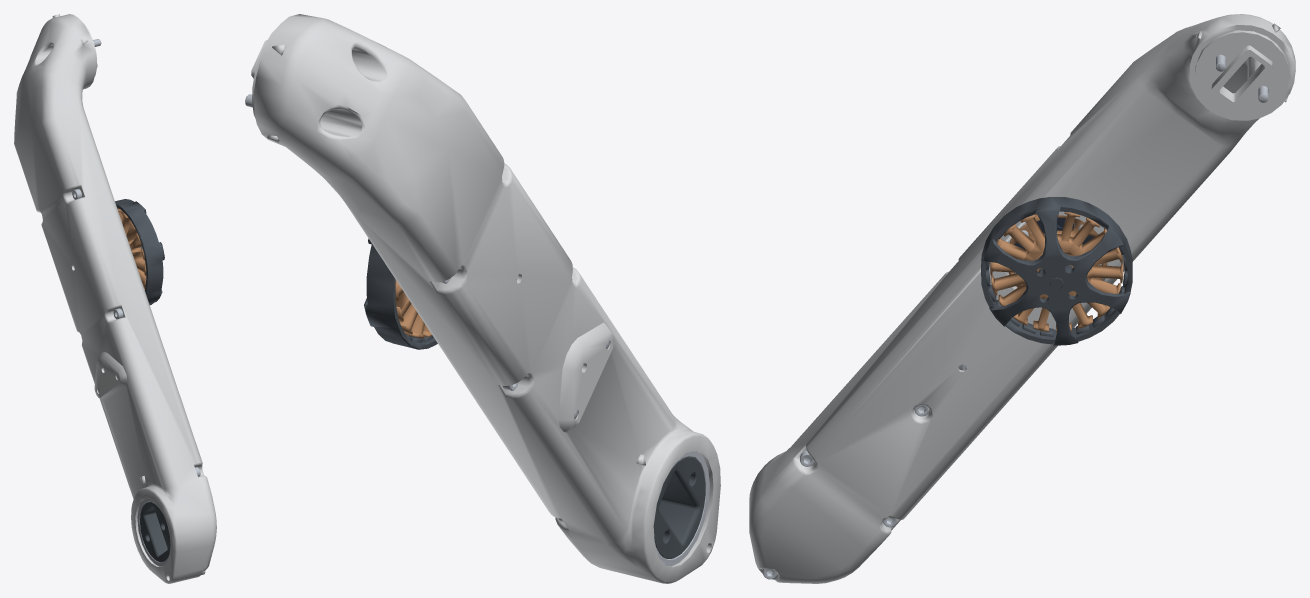
Rendered from left_thigh_LOD0.fbx.
The picture shows the model from 3 angles, left to right: view 1: azimuth 30°, elevation 25°; view 2: azimuth 150°, elevation 25°; view 3: azimuth 270°, elevation 25°; orthographic projection. The views are drawn at different scales.
Parts seen in each view (by area): view 1: MM_bolt_upper_leg_200mm_555b0a47ef, MM_bolt_motor_antigravity_4004_rotor_71baa74543, MM_bolt_transmission_pulley_at3_t30_output_6d3f30bc21, MM_bolt_motor_antigravity_4004_stator_ed03ace3a2, MM_bolt_bearing_32_25_4_sbn_61705rs_7ea44888d7; view 2: MM_bolt_upper_leg_200mm_555b0a47ef, MM_bolt_transmission_pulley_at3_t30_output_6d3f30bc21, MM_bolt_motor_antigravity_4004_rotor_71baa74543, MM_bolt_motor_antigravity_4004_stator_ed03ace3a2, MM_bolt_bearing_32_25_4_sbn_61705rs_7ea44888d7; view 3: MM_bolt_upper_leg_200mm_555b0a47ef, MM_bolt_motor_antigravity_4004_rotor_71baa74543, MM_bolt_motor_antigravity_4004_stator_ed03ace3a2.
Boxes of the visible parts, x1=… form: MM_bolt_upper_leg_200mm_555b0a47ef: x1=14, y1=14, x2=216, y2=583; MM_bolt_motor_antigravity_4004_rotor_71baa74543: x1=115, y1=199, x2=164, y2=305; MM_bolt_transmission_pulley_at3_t30_output_6d3f30bc21: x1=140, y1=502, x2=170, y2=562; MM_bolt_motor_antigravity_4004_stator_ed03ace3a2: x1=117, y1=207, x2=146, y2=289; MM_bolt_bearing_32_25_4_sbn_61705rs_7ea44888d7: x1=137, y1=498, x2=169, y2=566; MM_bolt_upper_leg_200mm_555b0a47ef: x1=251, y1=14, x2=720, y2=583; MM_bolt_transmission_pulley_at3_t30_output_6d3f30bc21: x1=653, y1=456, x2=705, y2=558; MM_bolt_motor_antigravity_4004_rotor_71baa74543: x1=364, y1=238, x2=437, y2=349; MM_bolt_motor_antigravity_4004_stator_ed03ace3a2: x1=395, y1=280, x2=432, y2=338; MM_bolt_bearing_32_25_4_sbn_61705rs_7ea44888d7: x1=654, y1=451, x2=709, y2=566; MM_bolt_upper_leg_200mm_555b0a47ef: x1=749, y1=14, x2=1295, y2=583; MM_bolt_motor_antigravity_4004_rotor_71baa74543: x1=981, y1=197, x2=1132, y2=345; MM_bolt_motor_antigravity_4004_stator_ed03ace3a2: x1=990, y1=212, x2=1123, y2=332.
Size of the model in its own units: 0.044 by 0.1901 by 0.1596.
